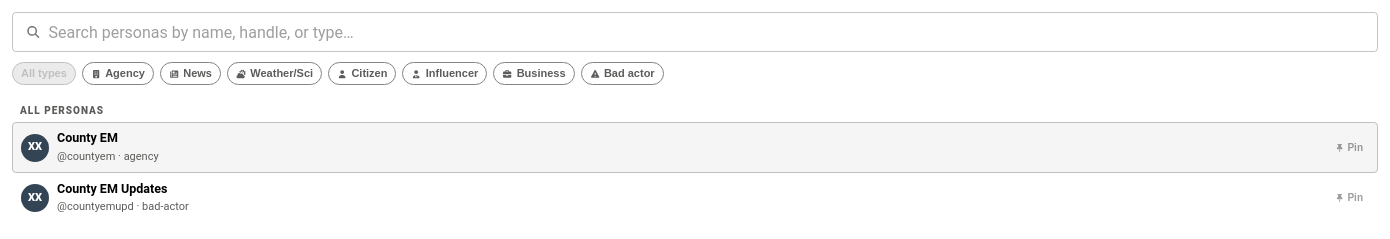
Test: PersonaPicker — staff personas keep their archetype › filters by personaType and labels each row with it
Expected: the option with test id "persona-picker-option-persona-agency" shows "agency", top-left (12, 122), bottom-right (1378, 173)
Expected: the option with test id "persona-picker-option-persona-bad-actor" shows "bad-actor", top-left (12, 173), bottom-right (1378, 223)
Click the button with test id "persona-picker-type-filter-agency". click: {"x": 118, "y": 74}
box: top-left (82, 62), bottom-right (154, 85)
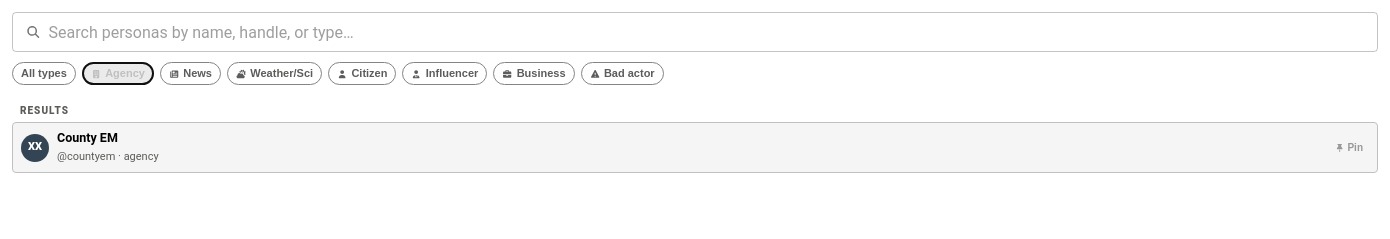
Expected: the option with test id "persona-picker-option-persona-agency" is shown, top-left (12, 122), bottom-right (1378, 173)
Result: the option with test id "persona-picker-option-persona-bad-actor" is gone
